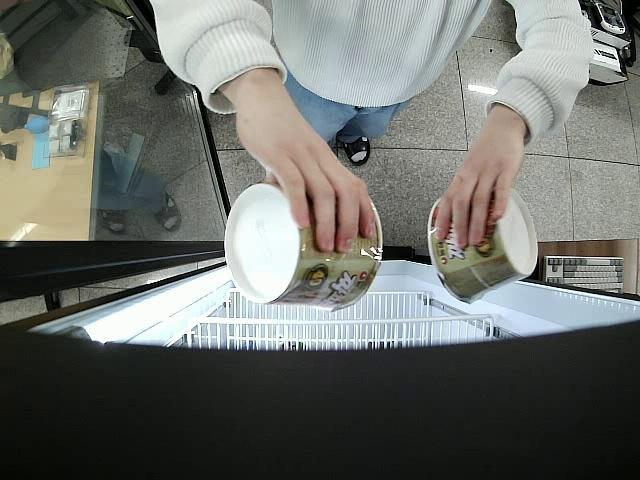03_chapagetti_L: (225, 182, 382, 314), (429, 188, 538, 303)
